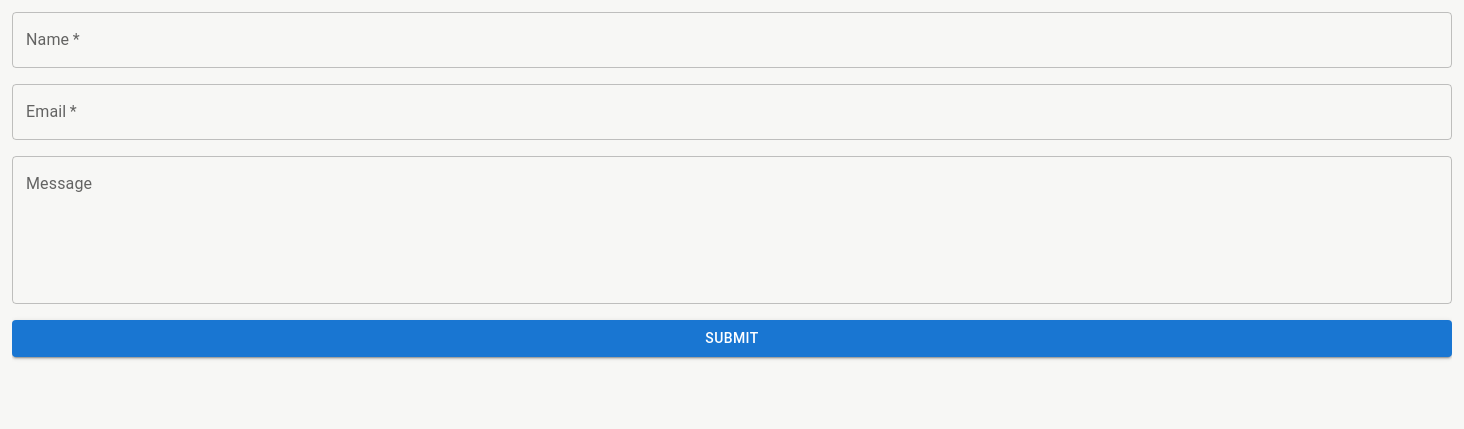
Scenario: ContactForm › shows field helper text when submitted empty
Click the button "Submit" at coordinates (732, 338), box [12,320,1452,356]
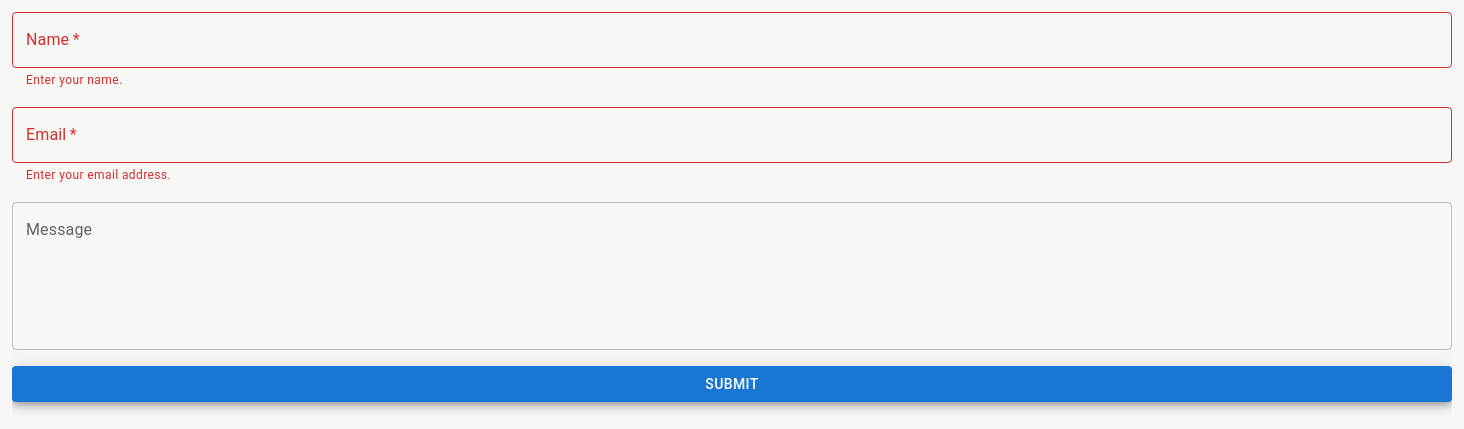
Expected: the text "Enter your name." is shown, [26,73,122,87]
Expected: the text "Enter your email address." is shown, [26,168,171,182]
